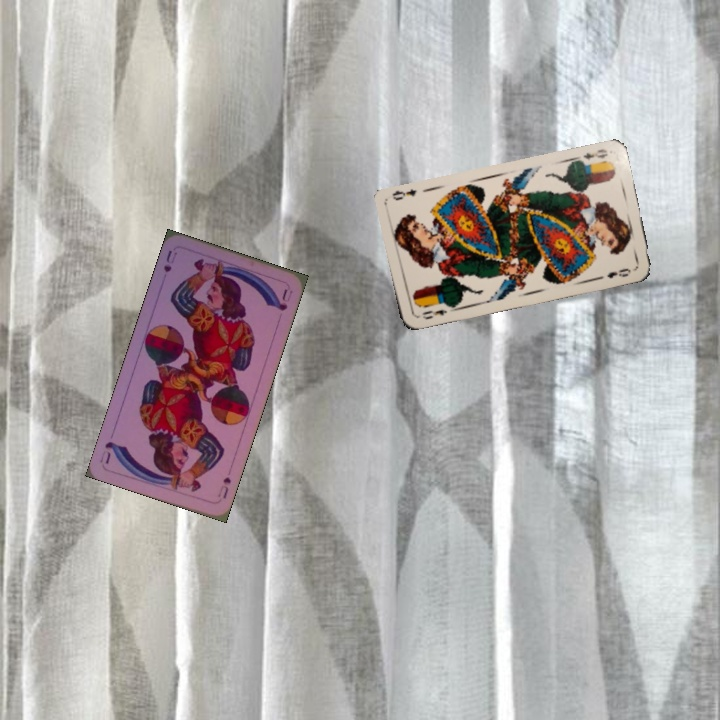EO: (418, 305, 449, 322), (579, 145, 610, 162)
SU: (160, 246, 180, 275), (214, 472, 234, 501)
